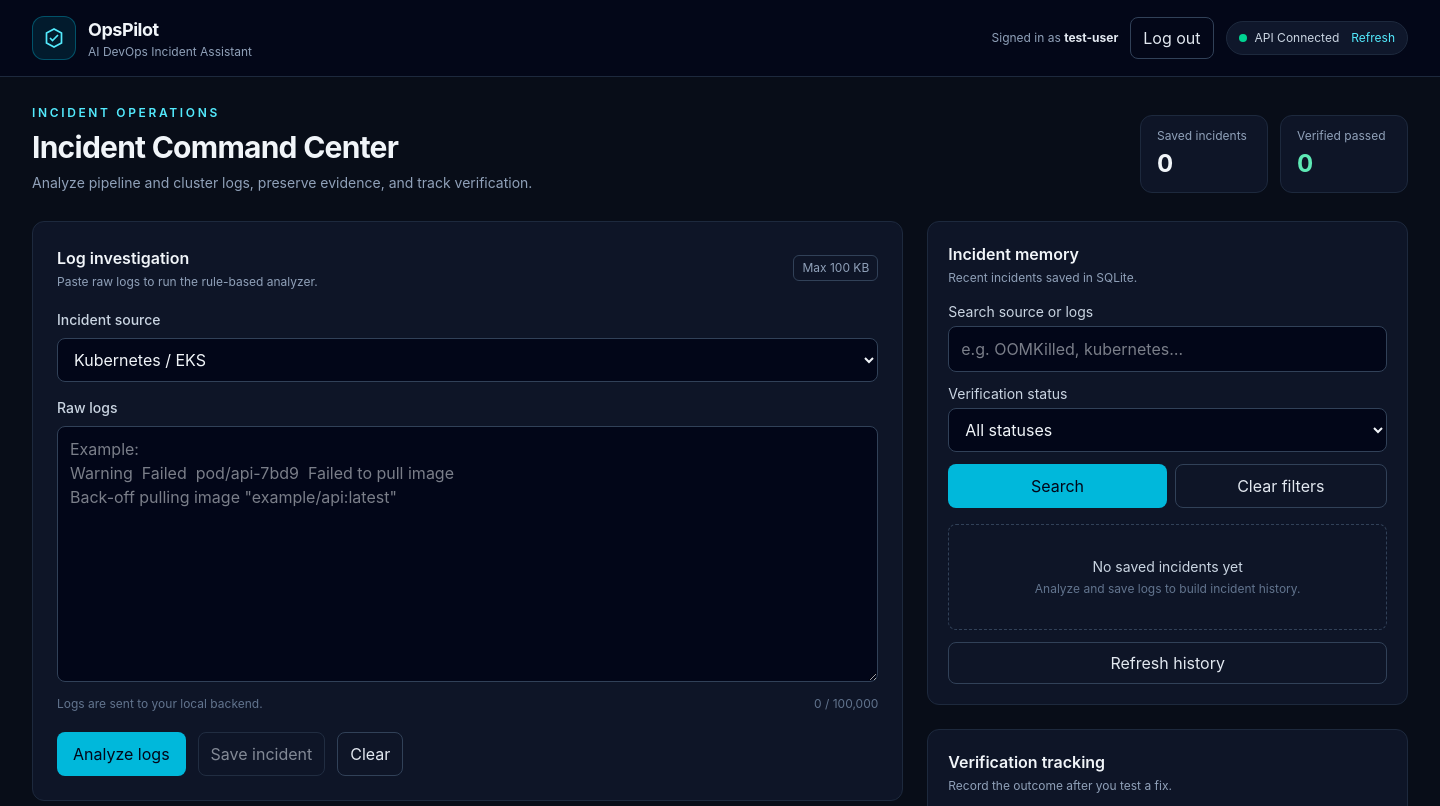
Test: incident history filters › keeps the latest search results when an older request resolves later
Type "older-search" into the search field labelled "Search source or logs". click: (1168, 349)
box: [948,326,1387,372]
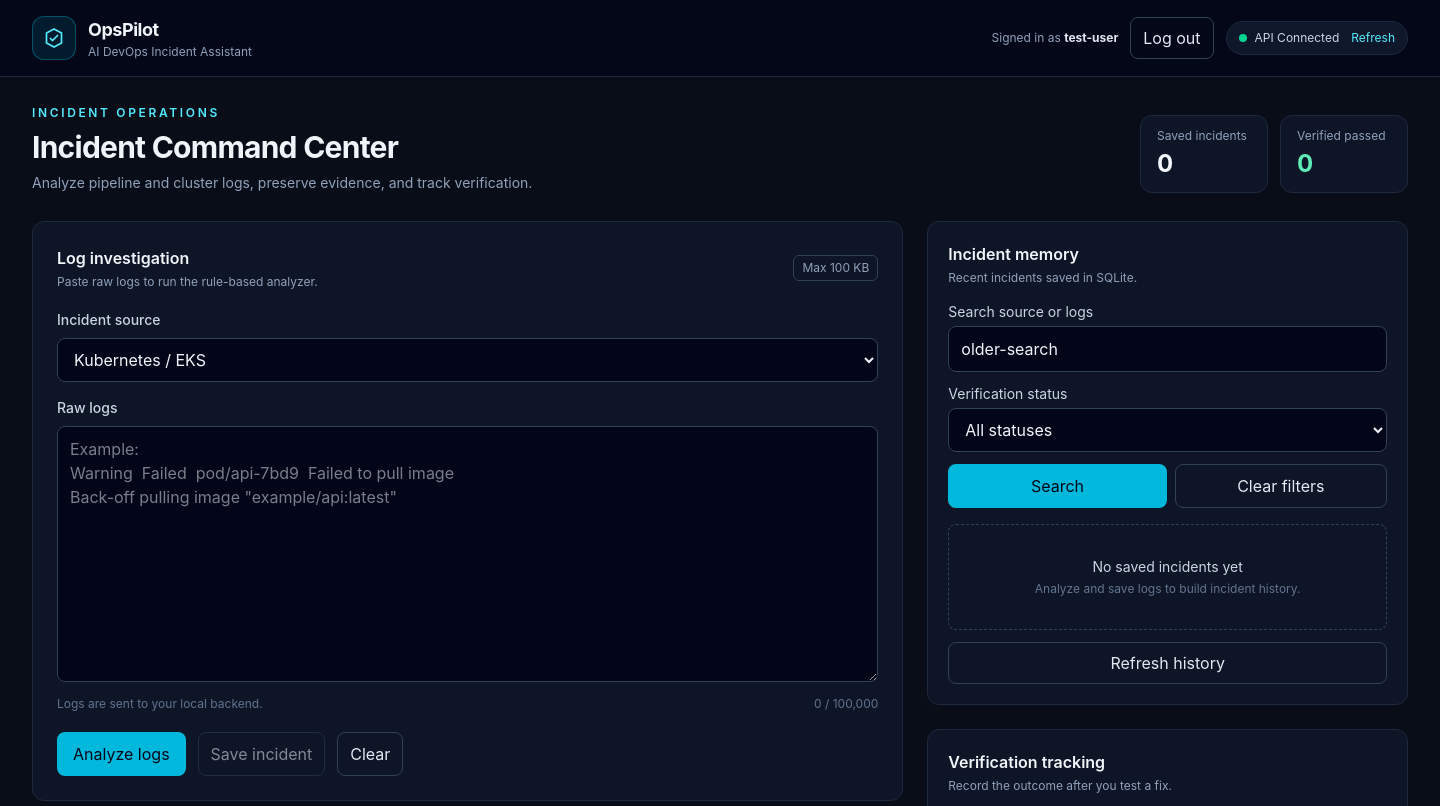
Click the button "Search". click: (1058, 486)
box: [948,464,1167,508]
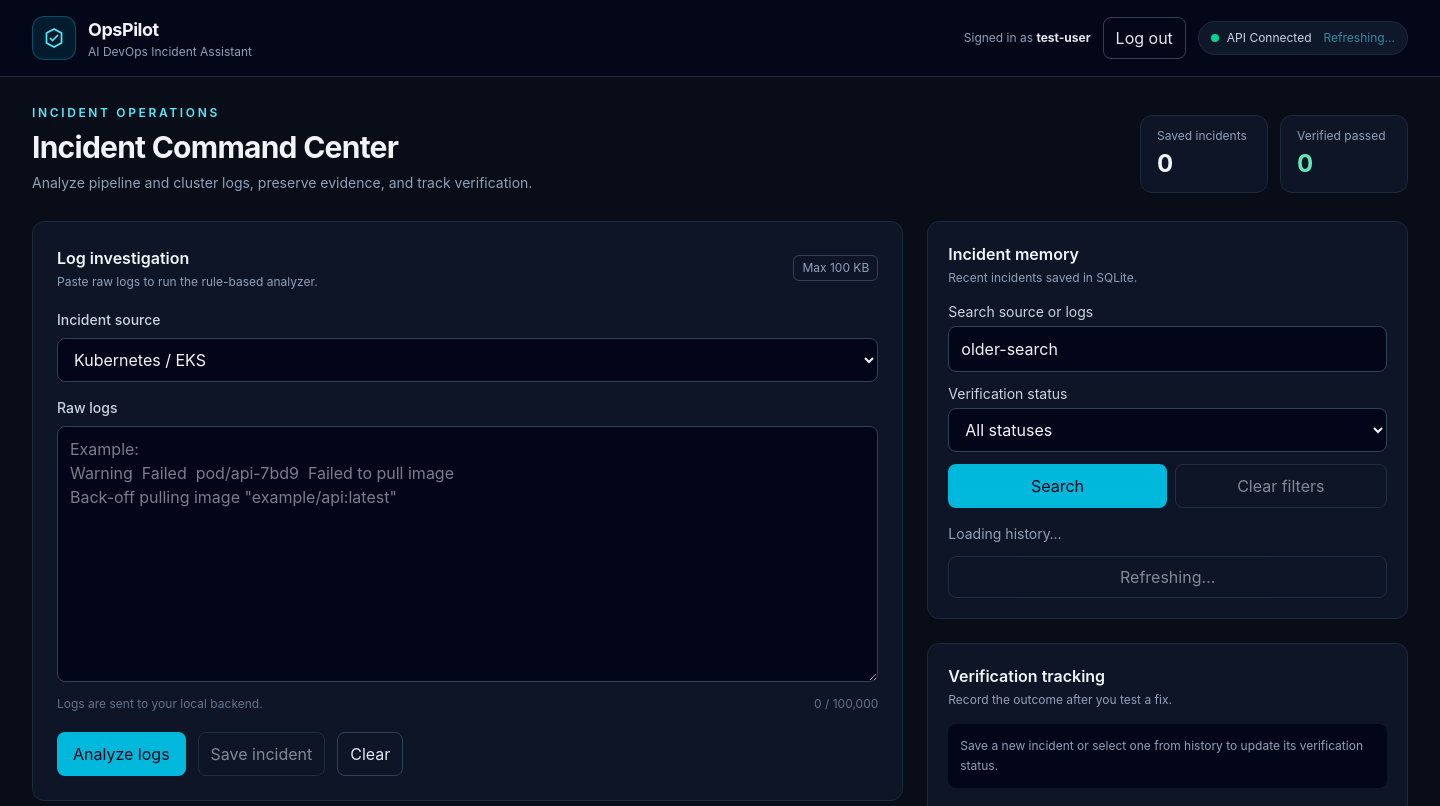
Replace the text in the search field labelled "Search source or logs" with "latest-search". click: (1168, 349)
box: [948,326,1387,372]
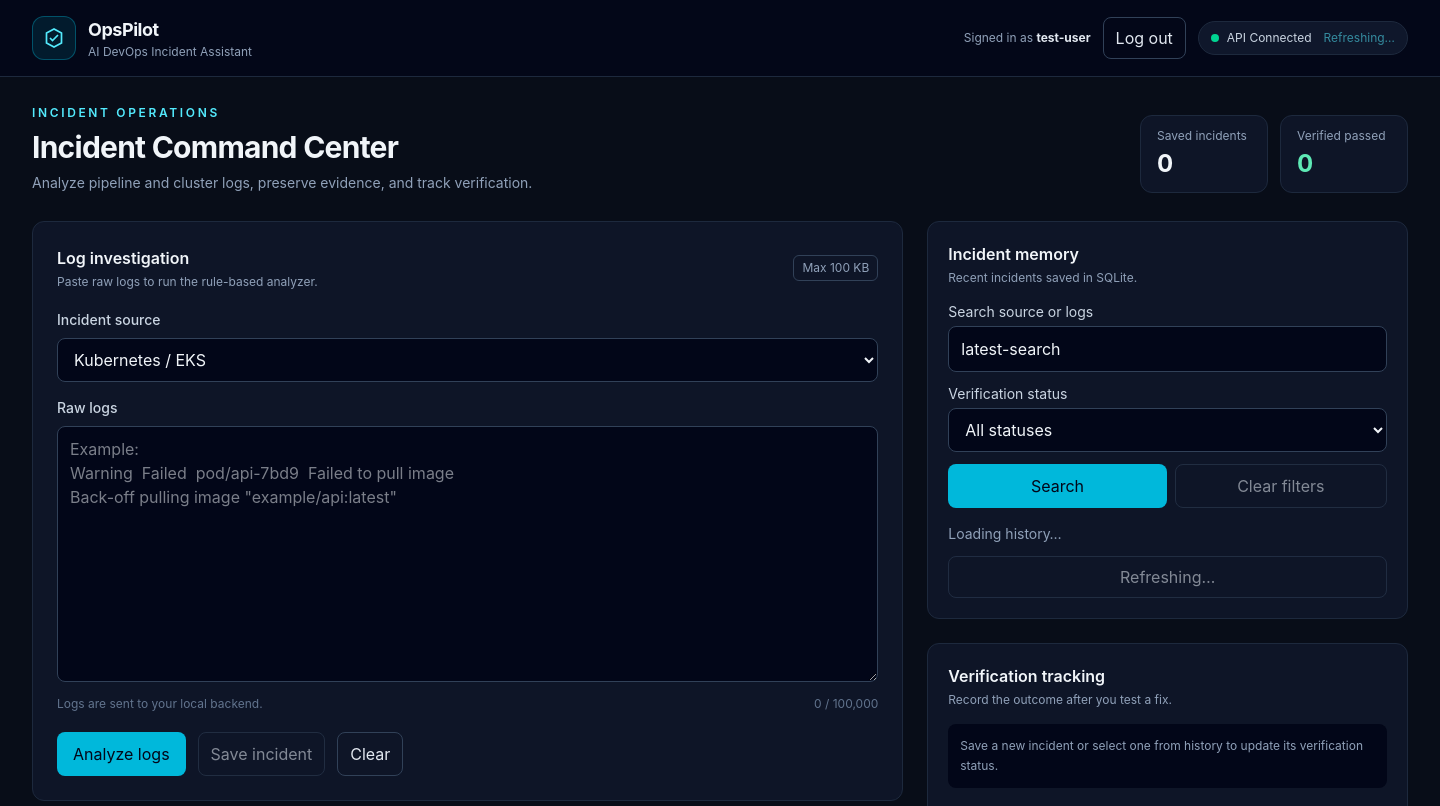
Click the button "Search". click: (1058, 486)
box: [948,464,1167,508]
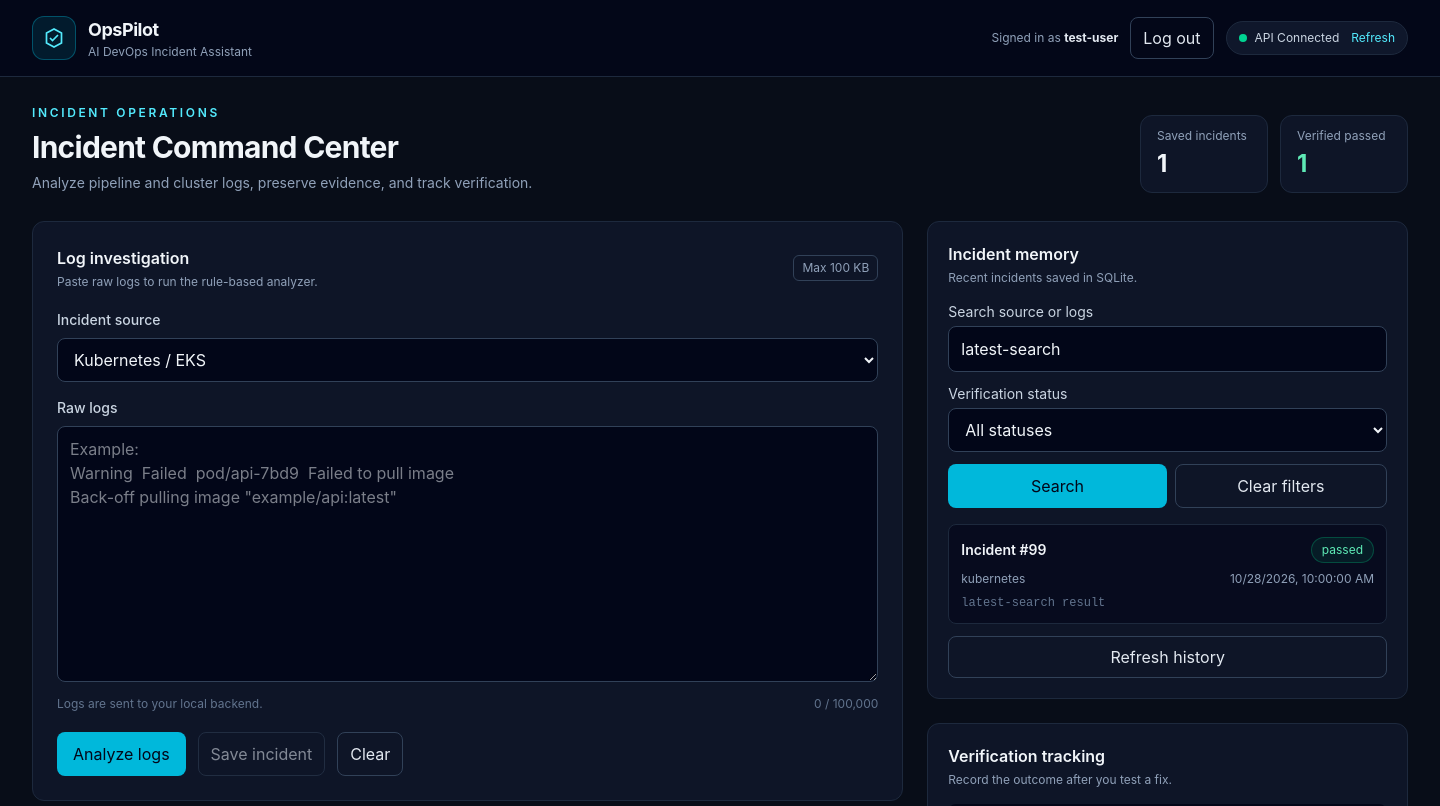
Check: the button with aria-label "Open incident 99" is shown, box [948,524,1387,624]
